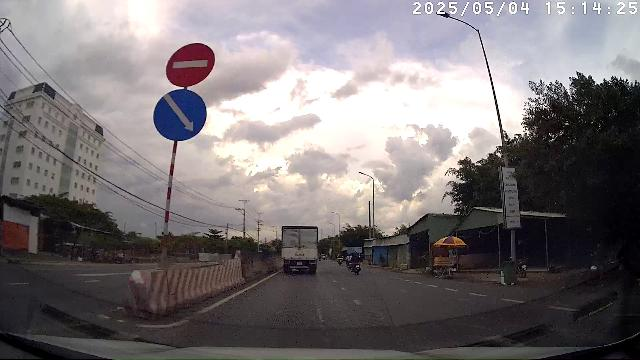102-cam-di-nguoc-chieu: (165, 42, 215, 87)
302a-huong-phai-di-vong-chuong-ngai-vat-1: (152, 88, 208, 142)
